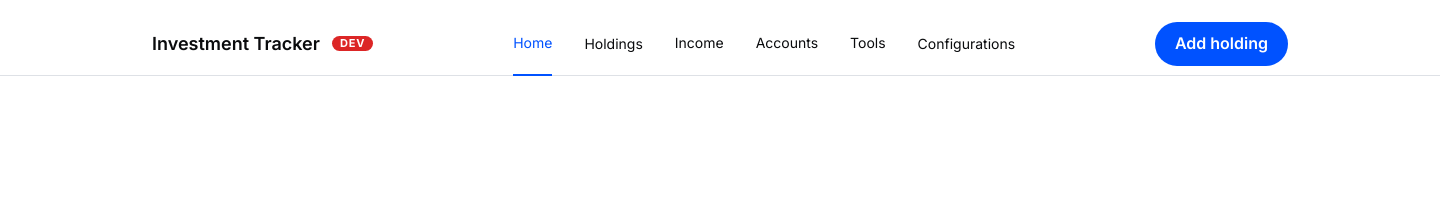
TopNav responsive behavior › shows Add holding submenu with Bond and BRFI create links
Hover over the element "Add holding" at [1221, 44], box [1155,22,1288,66]
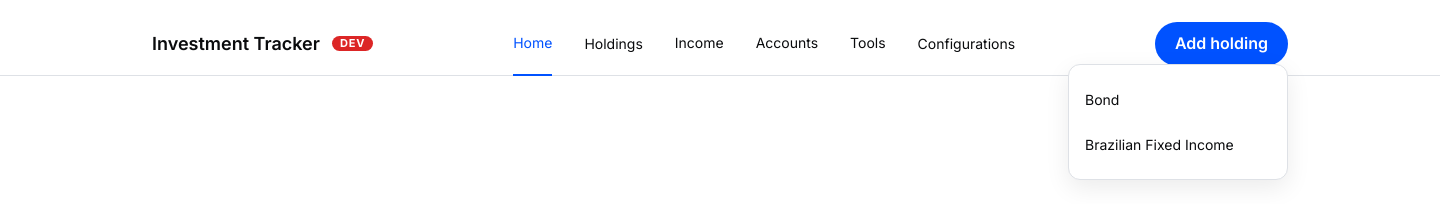
Check: the menu with id "add-holding-submenu" is shown, box [1068,64,1288,180]
Check: the menu item to "/holdings/new" reads "Bond", box [1085,90,1119,108]
Check: the menu item to "/holdings/brazilian-fixed-income/new" reads "Brazilian Fixed Income", box [1085,136,1234,152]
